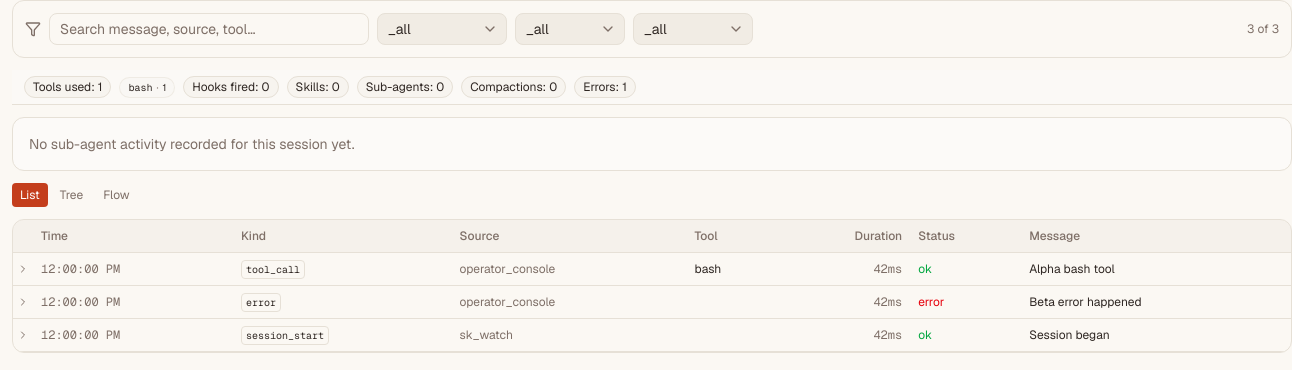
Test: DebugLogTab – filter behavior › text filter is case-insensitive
The width and height of the screenshot is (1292, 370).
Type "BASH" into the field named "filter by text" at x=209, y=29, box left=49, top=13, right=369, bottom=45
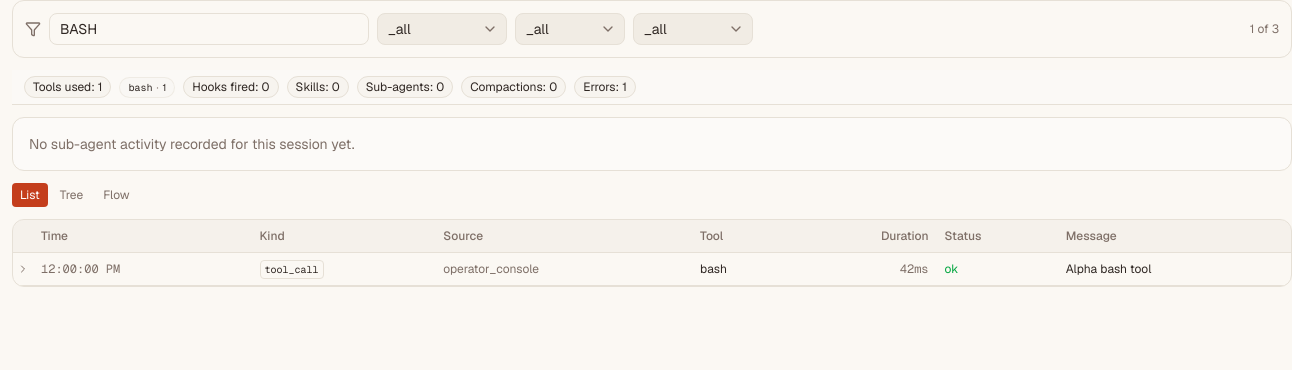
Expected: the text "Alpha bash tool" is shown, left=1066, top=261, right=1151, bottom=277
Now the text "Beta error happened" is gone
